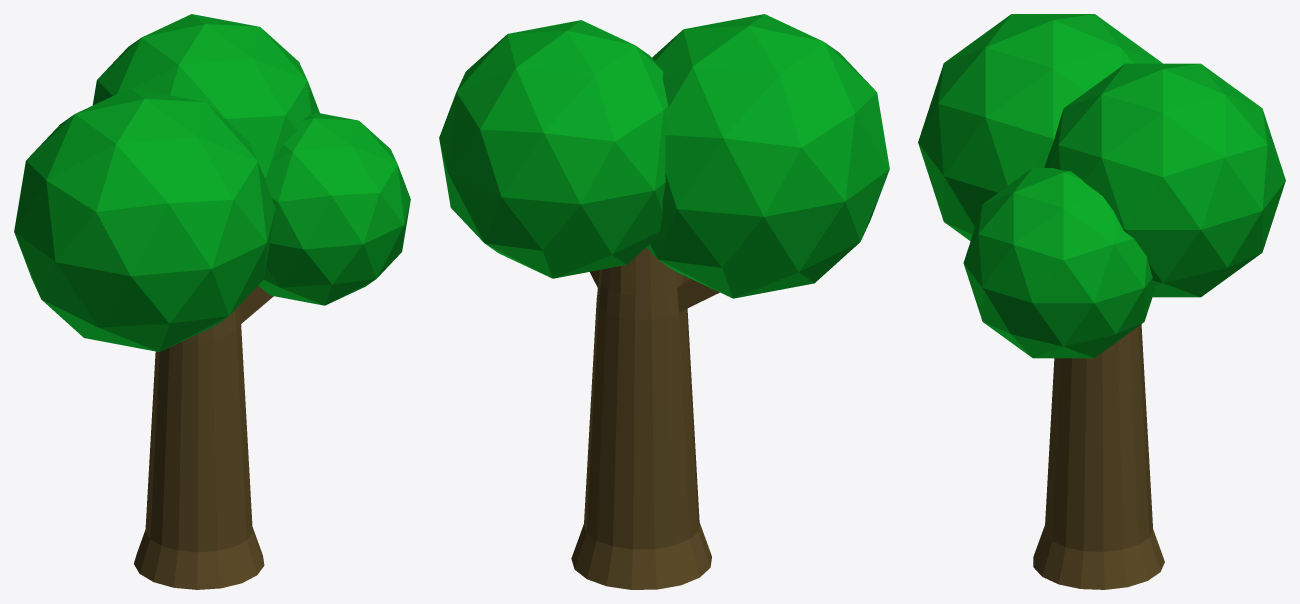
The model's file is simpleTree.glb.
The picture shows the model from 3 angles, left to right: view 1: azimuth 30°, elevation 25°; view 2: azimuth 150°, elevation 25°; view 3: azimuth 270°, elevation 25°; orthographic projection. The views are drawn at different scales.
Parts seen in each view (by area): view 1: Cylinder.001; view 2: Cylinder.001; view 3: Cylinder.001.
Part boxes in pixels (x1,y1,x2,y2): Cylinder.001: (14,14,410,589); Cylinder.001: (439,14,889,589); Cylinder.001: (918,14,1285,589).
Size of the model in its own units: 4.5 by 5.94 by 3.87.
